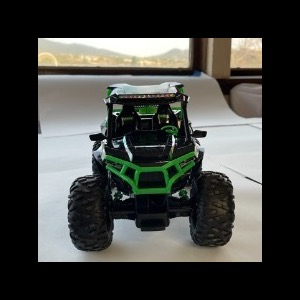polaris: (68, 81, 238, 254)
